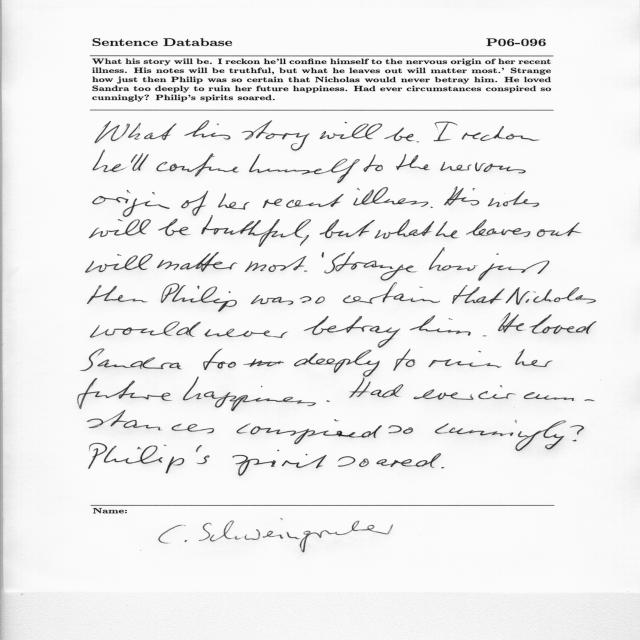word: (183, 377, 316, 411), (435, 420, 566, 451), (89, 443, 210, 473), (237, 419, 382, 444), (249, 154, 360, 183), (201, 218, 311, 247), (304, 316, 401, 348), (88, 410, 215, 433), (78, 378, 172, 409), (324, 252, 417, 281), (232, 450, 327, 476), (95, 121, 177, 151), (294, 350, 380, 377), (80, 349, 182, 371), (161, 283, 237, 312), (343, 282, 440, 304), (93, 190, 170, 217), (242, 121, 310, 151), (478, 253, 550, 281), (156, 153, 239, 177), (90, 321, 201, 338), (479, 386, 595, 402), (203, 349, 284, 370), (505, 287, 596, 305), (338, 454, 444, 469), (353, 187, 429, 207), (157, 252, 237, 271), (530, 314, 597, 334), (86, 254, 153, 273), (429, 351, 502, 368), (410, 316, 471, 336), (375, 219, 435, 239), (89, 220, 151, 239), (466, 219, 531, 237), (462, 126, 539, 141), (88, 285, 148, 304), (263, 194, 344, 208), (429, 247, 476, 271), (349, 378, 404, 398), (320, 122, 382, 139), (320, 219, 375, 238), (452, 285, 505, 304), (245, 256, 306, 272), (440, 162, 526, 173), (211, 193, 250, 217), (184, 121, 231, 140), (204, 328, 288, 338), (488, 191, 539, 207), (515, 349, 553, 367), (182, 191, 209, 216), (537, 222, 582, 237), (93, 151, 125, 172), (444, 187, 479, 206), (414, 389, 474, 400), (158, 219, 191, 236), (396, 154, 430, 170), (498, 313, 524, 332), (394, 349, 416, 371), (434, 122, 458, 142), (251, 295, 294, 305), (384, 128, 414, 142), (436, 221, 458, 238), (363, 154, 383, 172), (131, 153, 149, 171), (388, 425, 413, 434), (300, 296, 325, 304), (570, 425, 584, 435), (300, 235, 309, 246), (322, 252, 324, 258), (483, 335, 487, 337), (327, 400, 330, 402), (431, 207, 433, 209), (304, 271, 308, 272), (573, 440, 577, 441), (417, 142, 420, 143)
